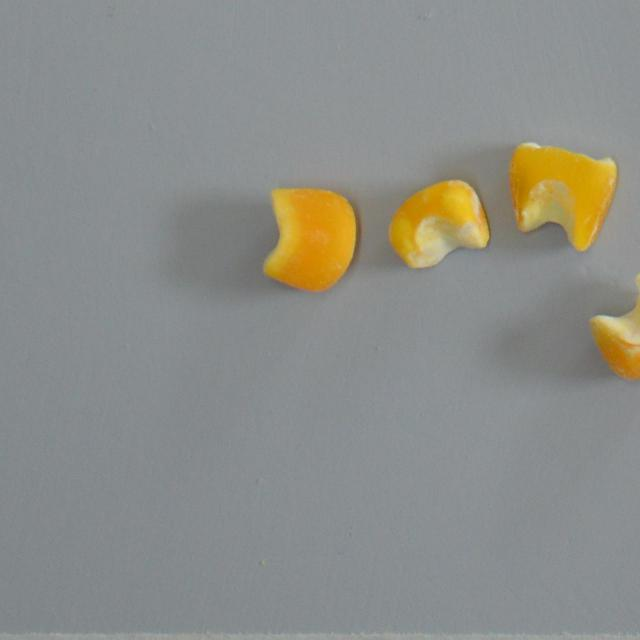dañado: (504, 136, 620, 254), (386, 176, 494, 274), (588, 269, 640, 384)
pelicula: (258, 182, 362, 296)
